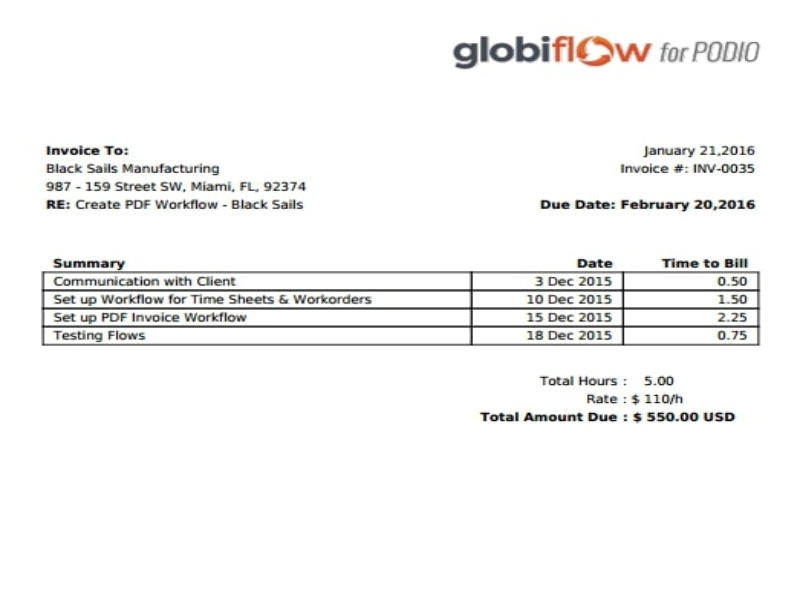invoice_detail: (39, 141, 313, 214)
table: (38, 251, 766, 350)
total: (475, 407, 739, 426)
